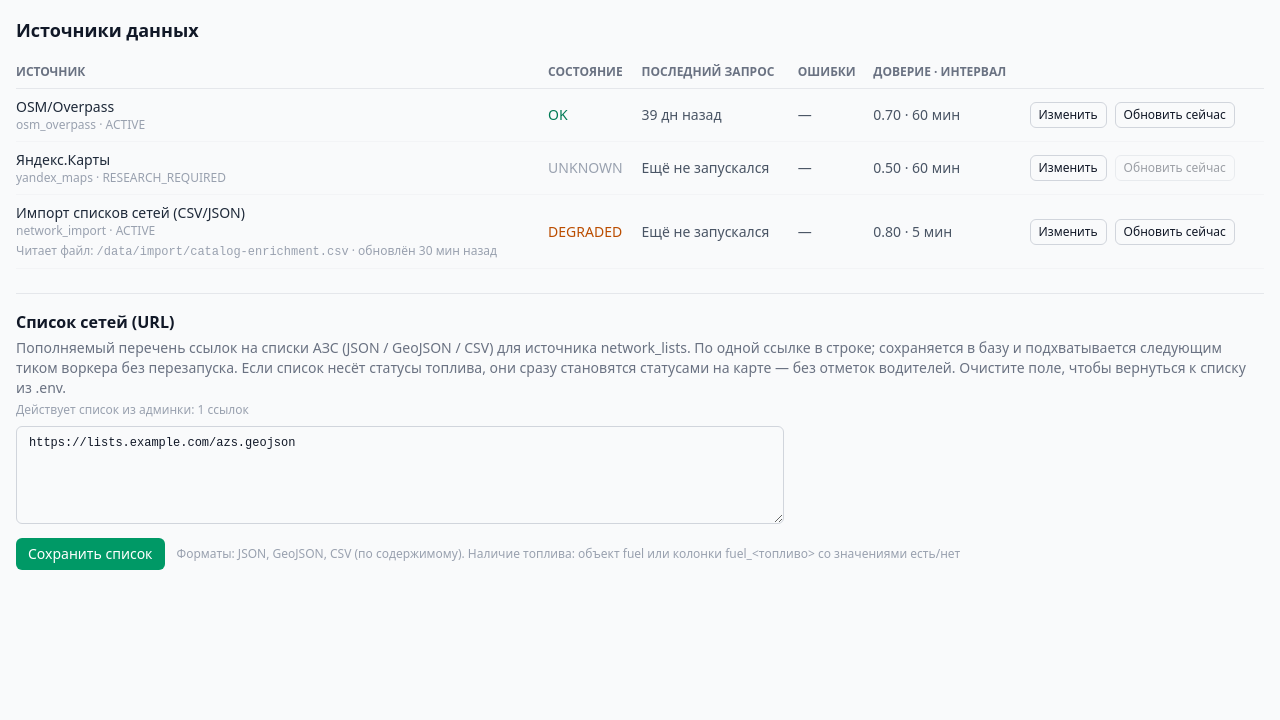
it: AdminSourcesTable (R58) › «обновить сейчас» ставит задание, не собирая синхронно (R53.1/R58.1)
This screenshot has width=1280, height=720.
Expected: the text "OSM/Overpass" is shown, top-left (16, 97), bottom-right (114, 116)
Click the button "Обновить сейчас" in the row of "OSM/Overpass": {"x": 1175, "y": 115} top-left (1115, 102), bottom-right (1235, 128)
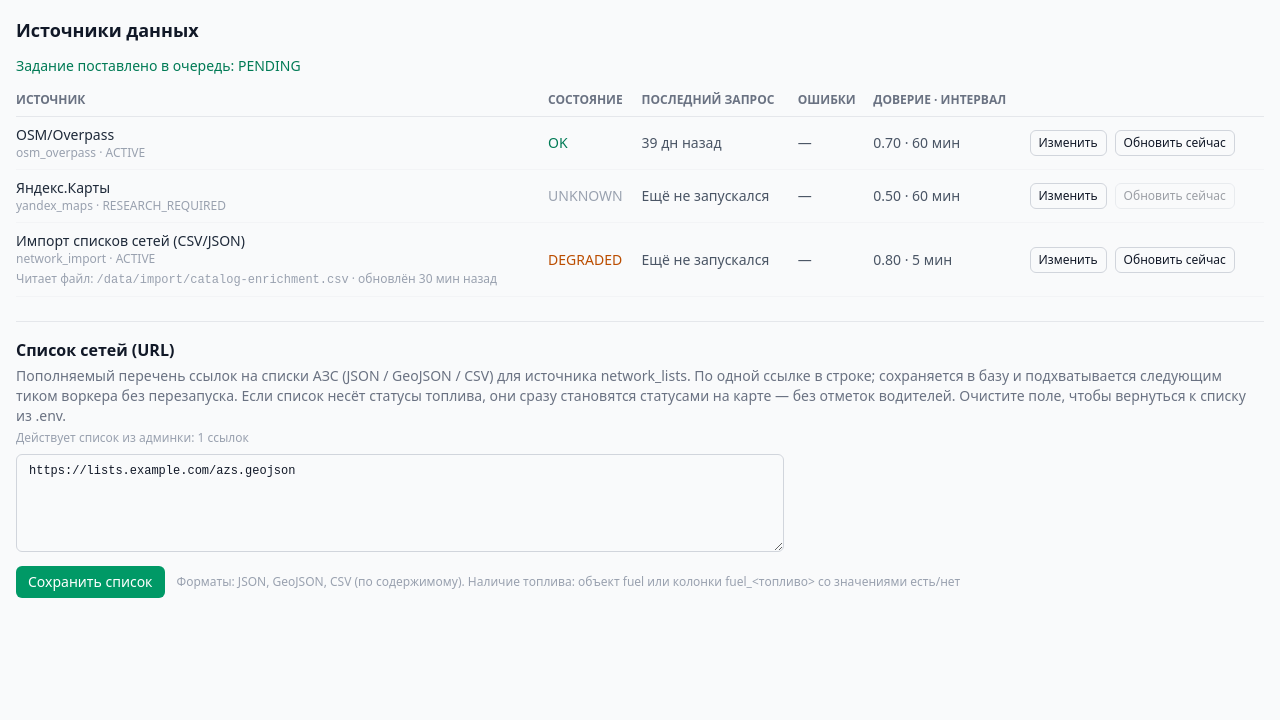
Expected: the text "Задание поставлено в очередь: PENDING" is shown, top-left (16, 56), bottom-right (301, 75)
